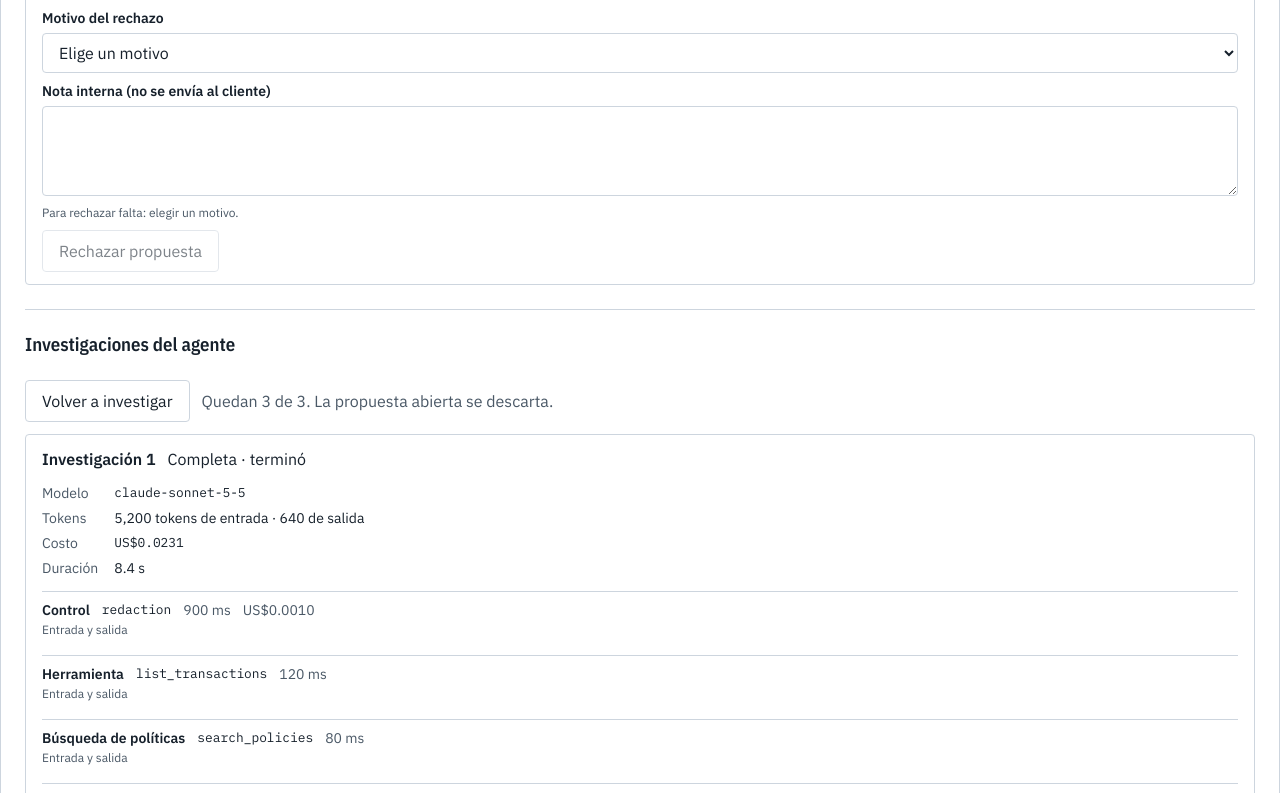
Test: run again (02 G3 re-runs, at most 3) › says when the api could not take the request
(page scrolled)
Click the button "Volver a investigar" at (107, 400), box [25,380,190,422]
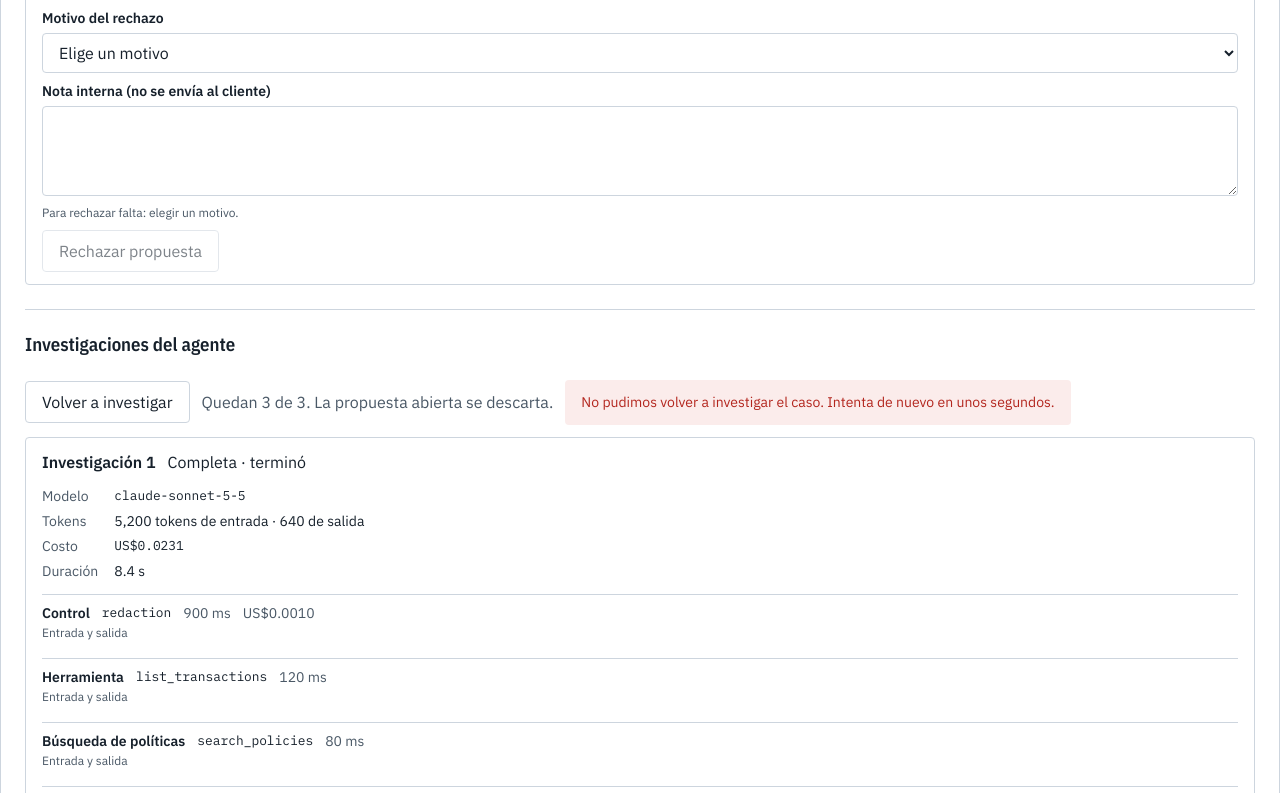
expect the message reads "No pudimos volver a investigar el caso. Intenta de nuevo en unos segundos.": met, box [581,392,1055,410]
